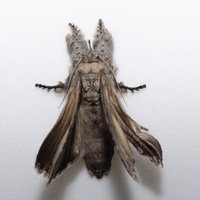insect: (35, 19, 162, 182)
